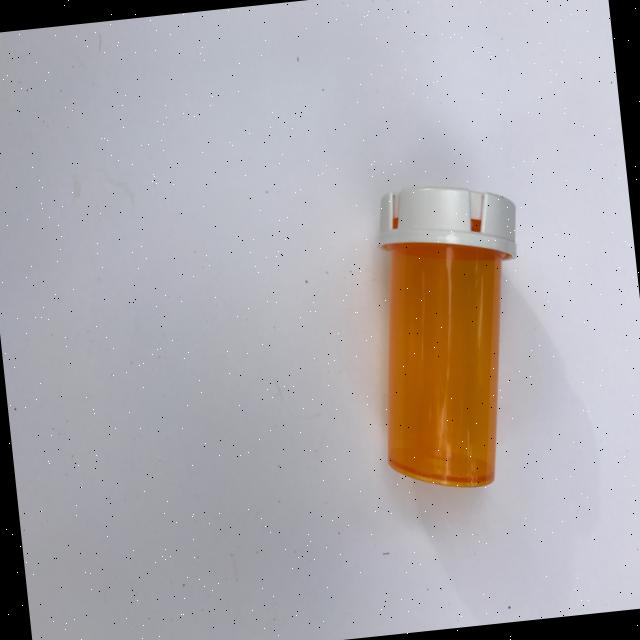plastic: (358, 175, 544, 496)
